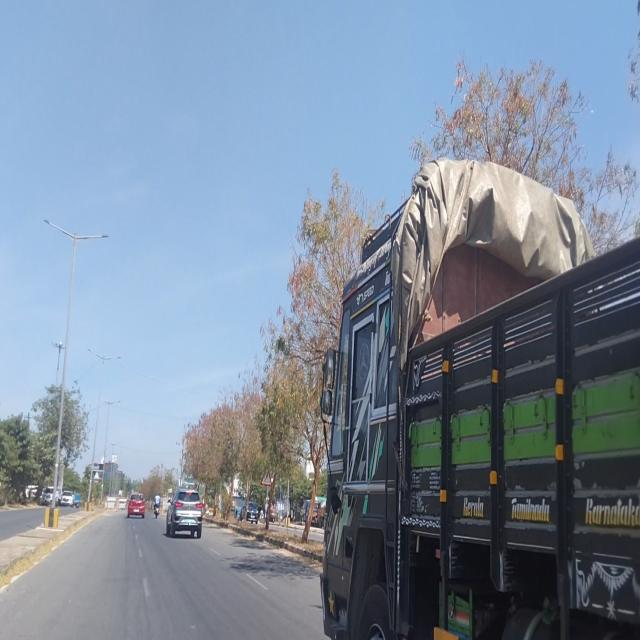bien_cam: (260, 466, 273, 485)
